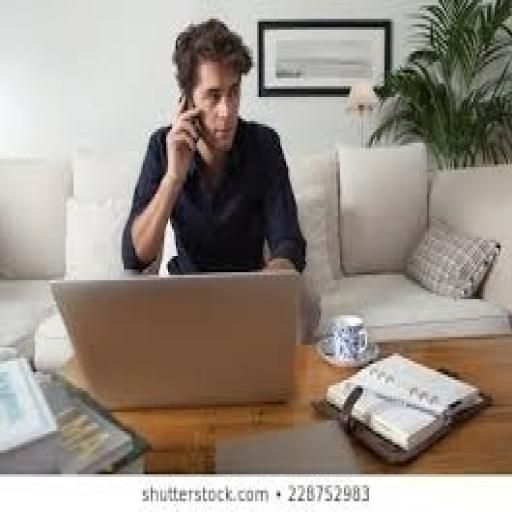calling: (120, 16, 307, 278)
